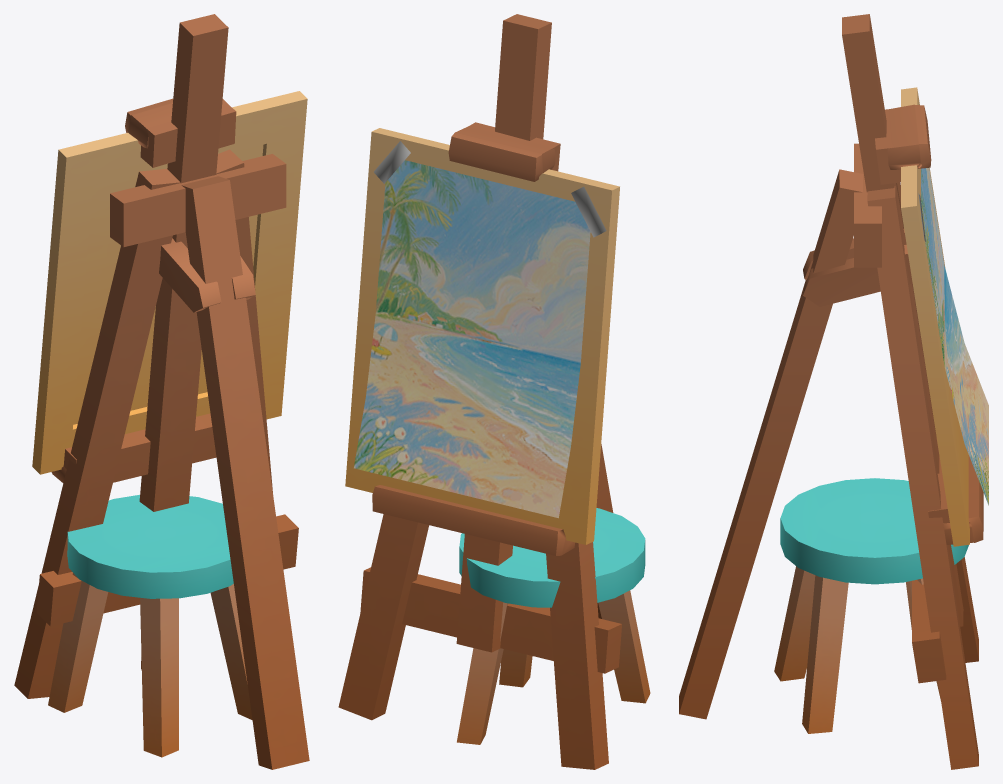
Rendered from Drawing_Board.fbx.
The picture shows the model from 3 angles, left to right: view 1: azimuth 30°, elevation 25°; view 2: azimuth 150°, elevation 25°; view 3: azimuth 270°, elevation 25°; orthographic projection.
Parts seen in each view (by area): view 1: Drawing_Board, Drawing_Chair; view 2: Drawing_Board, Drawing_Chair; view 3: Drawing_Board, Drawing_Chair.
Boxes of the visible parts, box(x1,y1,x2,y2) form: Drawing_Board: box(14, 14, 309, 769); Drawing_Chair: box(48, 494, 252, 757); Drawing_Board: box(338, 14, 621, 769); Drawing_Chair: box(457, 508, 650, 744); Drawing_Board: box(679, 14, 988, 769); Drawing_Chair: box(774, 478, 968, 733).
Size of the model in its own units: 95.82 by 243 by 99.04.
